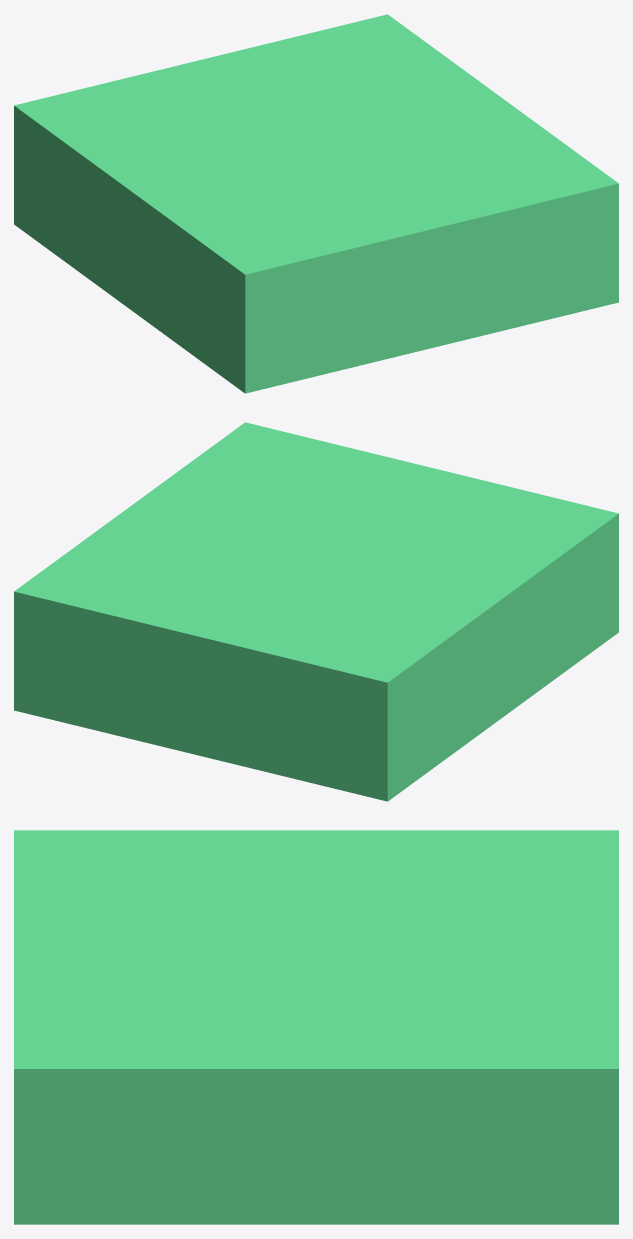
The model's file is rubble_pile_f.glb.
3 renders of one model, top to bottom at view 1: azimuth 30°, elevation 25°; view 2: azimuth 150°, elevation 25°; view 3: azimuth 270°, elevation 25°, orthographic. The views are drawn at different scales.
Parts seen in each view (by area): view 1: rubble_pile_f-col; view 2: rubble_pile_f-col; view 3: rubble_pile_f-col.
Part boxes in pixels (x1=…): rubble_pile_f-col: x1=14, y1=14, x2=618, y2=393; rubble_pile_f-col: x1=14, y1=422, x2=618, y2=801; rubble_pile_f-col: x1=14, y1=830, x2=618, y2=1224.
Bounding box in the file's own units: 2.77 × 0.8408 × 2.96.
